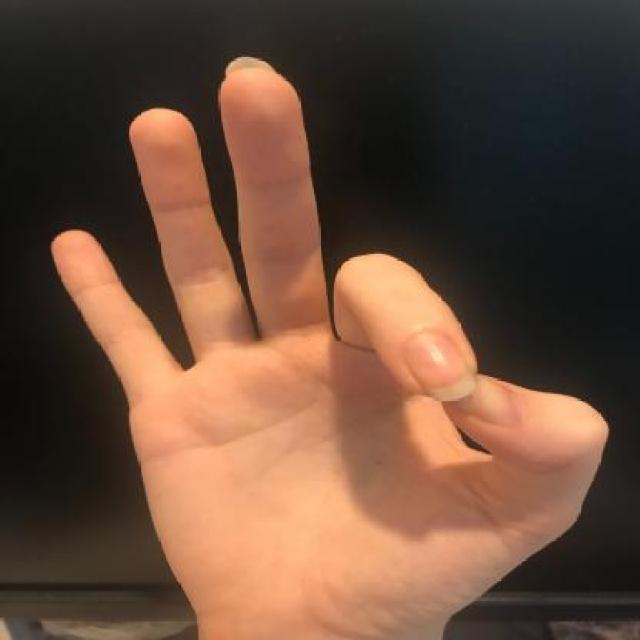F: (39, 47, 615, 640)
